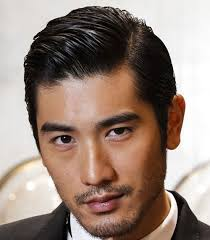asian_male: (25, 30, 190, 240)
